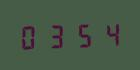five: (70, 19, 95, 49)
four: (96, 19, 121, 48)
three: (44, 20, 69, 50)
zero: (18, 21, 43, 50)
